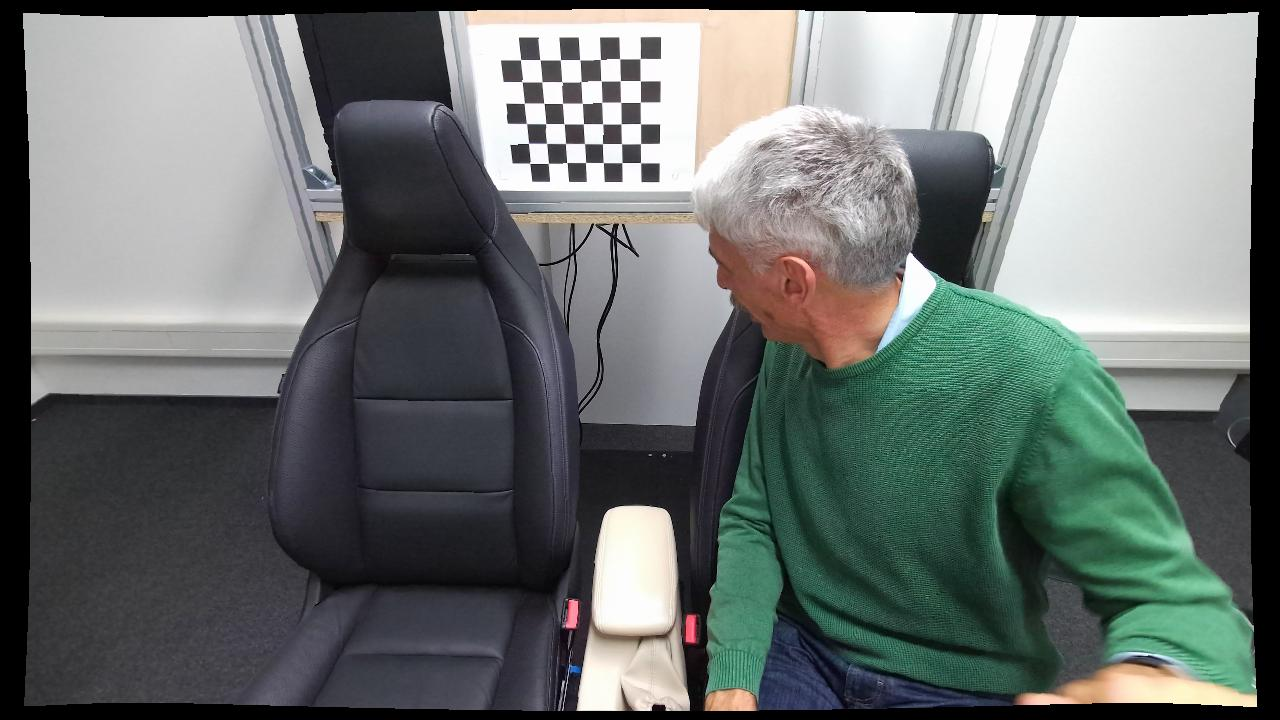Distracted: (692, 110, 1132, 712)
